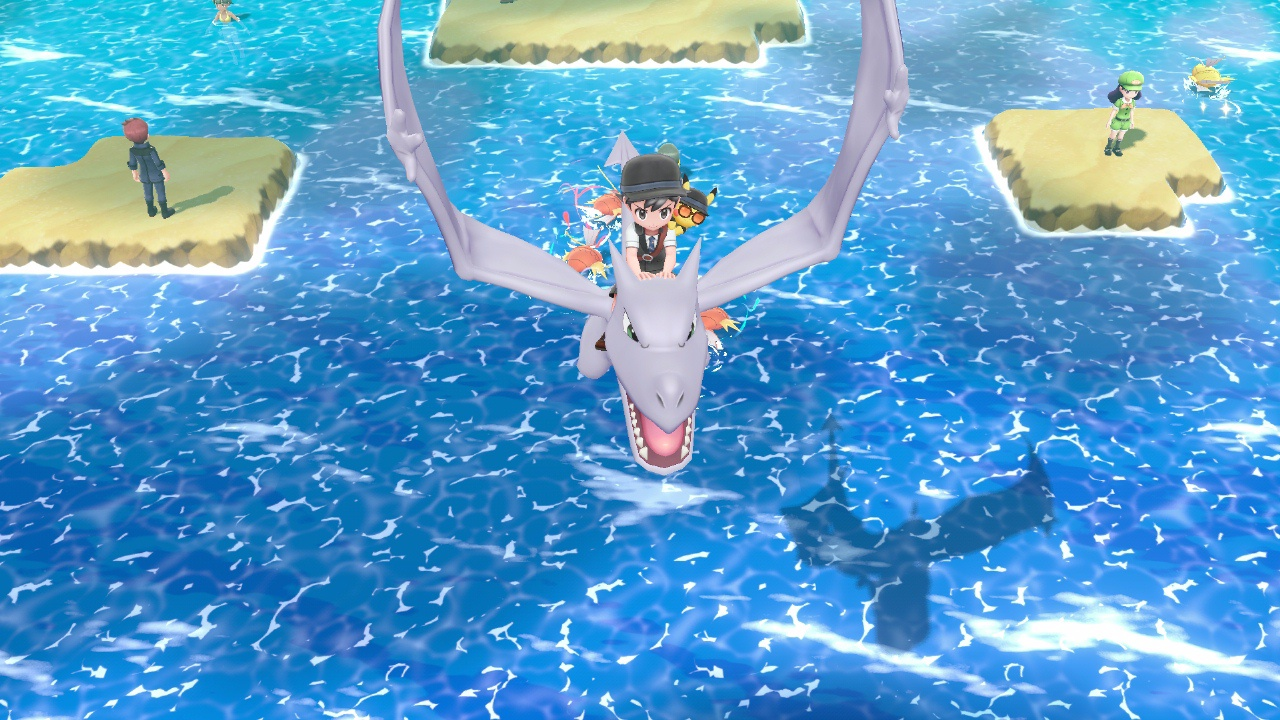Golden: (1188, 59, 1231, 94)
Red: (563, 227, 607, 276), (696, 303, 738, 353), (584, 188, 622, 222)
